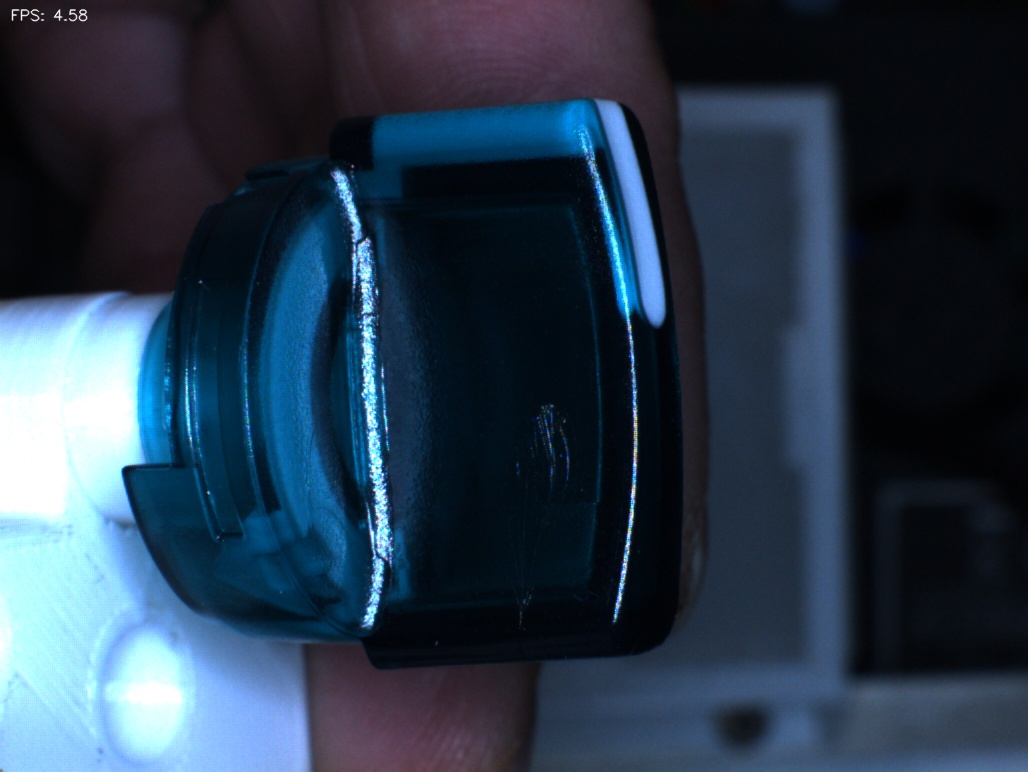Givrage: (496, 388, 586, 639)
